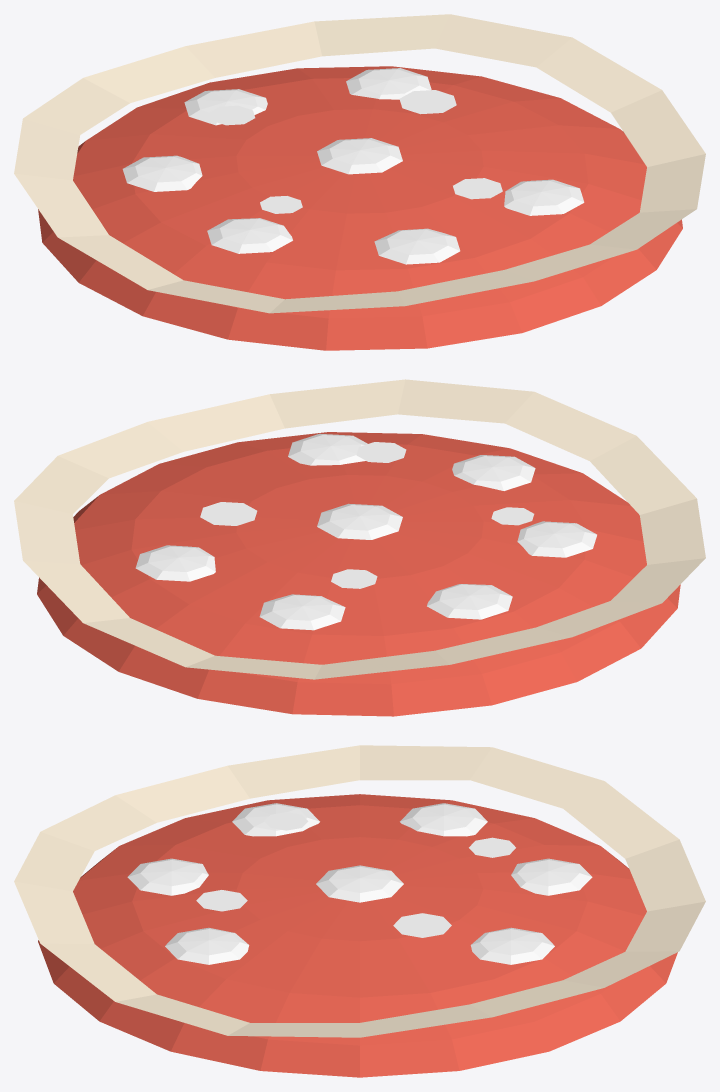
File: bouncepad.glb
The picture shows the model from 3 angles, top to bottom: view 1: azimuth 30°, elevation 25°; view 2: azimuth 150°, elevation 25°; view 3: azimuth 270°, elevation 25°; orthographic projection.
Visible parts, largest first — view 1: BouncePad, PadBrim, PadSpot2_0, PadSpot2_3, PadSpot2_1, PadSpot2_2; view 2: BouncePad, PadBrim, PadSpot2_0, PadSpot2_3, PadSpot2_1, PadSpot2_2; view 3: BouncePad, PadBrim, PadSpot2_0, PadSpot2_3, PadSpot2_1, PadSpot2_2.
Part boxes in pixels (x1=…): BouncePad: x1=38, y1=66, x2=682, y2=350; PadBrim: x1=14, y1=14, x2=705, y2=313; PadSpot2_0: x1=399, y1=90, x2=456, y2=114; PadSpot2_3: x1=453, y1=178, x2=502, y2=199; PadSpot2_1: x1=209, y1=105, x2=255, y2=125; PadSpot2_2: x1=260, y1=196, x2=302, y2=213; BouncePad: x1=37, y1=432, x2=680, y2=716; PadBrim: x1=14, y1=379, x2=705, y2=679; PadSpot2_0: x1=200, y1=502, x2=257, y2=525; PadSpot2_3: x1=356, y1=442, x2=406, y2=462; PadSpot2_1: x1=331, y1=569, x2=377, y2=588; PadSpot2_2: x1=491, y1=507, x2=534, y2=525; BouncePad: x1=38, y1=794, x2=677, y2=1077; PadBrim: x1=14, y1=745, x2=705, y2=1037; PadSpot2_0: x1=393, y1=913, x2=451, y2=937; PadSpot2_3: x1=196, y1=890, x2=247, y2=911; PadSpot2_1: x1=469, y1=837, x2=515, y2=857; PadSpot2_2: x1=264, y1=812, x2=308, y2=830.
Bounding box in the file's own units: 3.76 × 0.585 × 3.76.
